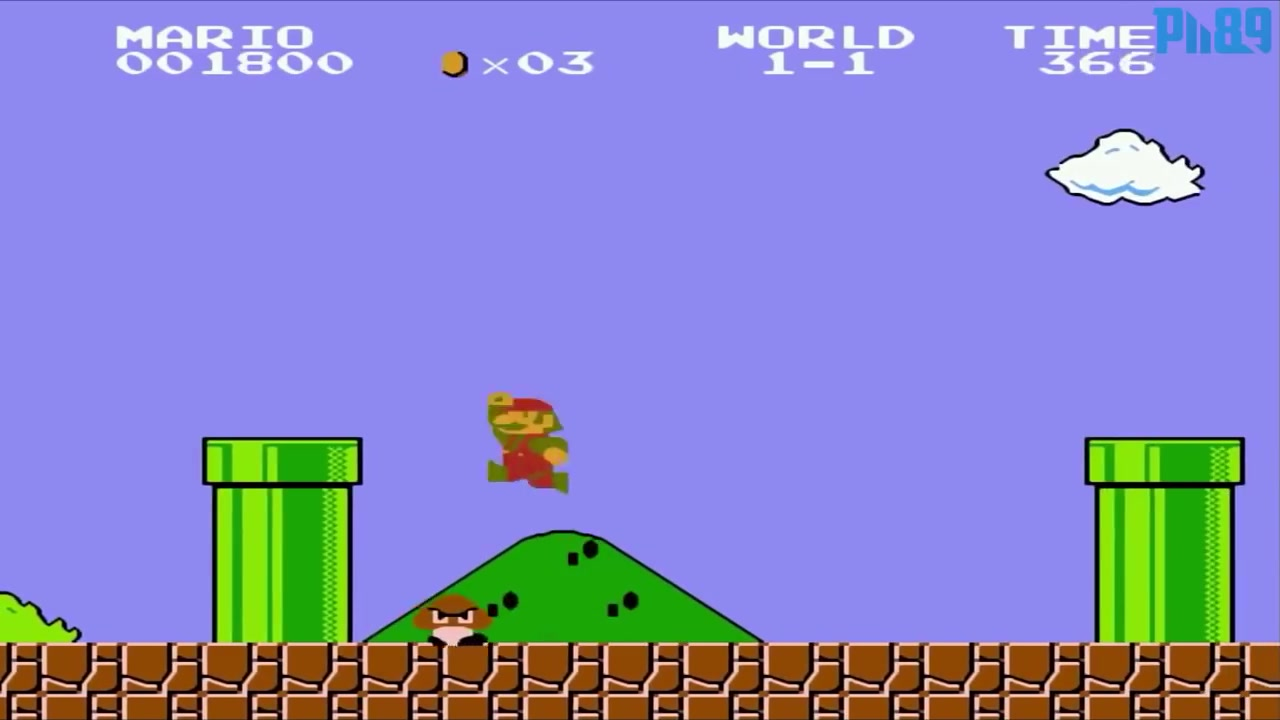mario: (470, 387, 583, 497)
